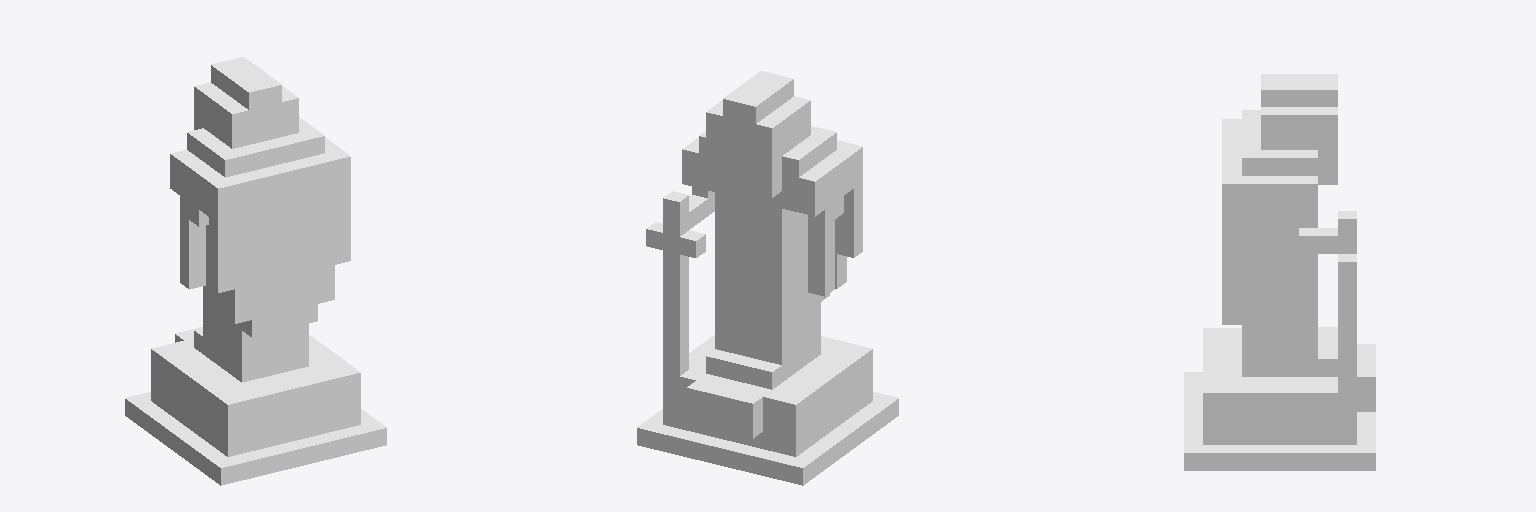
The model's file is statue.obj.
3 renders of one model, left to right at view 1: azimuth 30°, elevation 25°; view 2: azimuth 150°, elevation 25°; view 3: azimuth 270°, elevation 25°, orthographic.
Bounding box in the file's own units: 10 × 20 × 10.